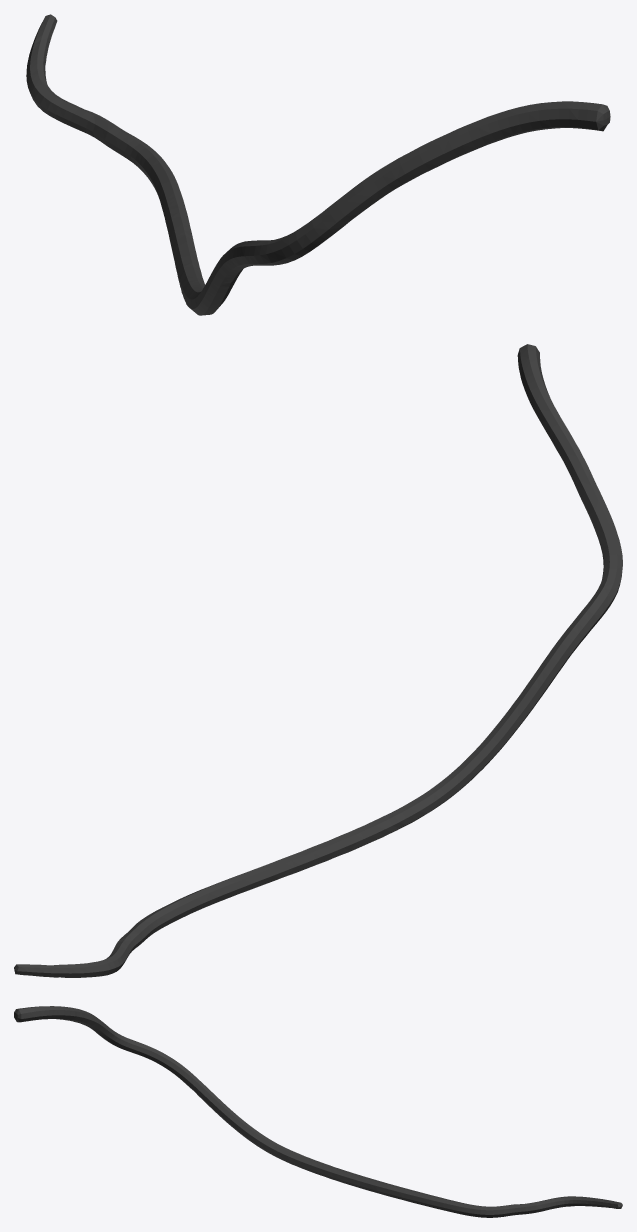
File: Inferior_alveolar_nn.glb
The picture shows the model from 3 angles, top to bottom: view 1: azimuth 30°, elevation 25°; view 2: azimuth 150°, elevation 25°; view 3: azimuth 270°, elevation 25°; orthographic projection. The views are drawn at different scales.
Visible parts, largest first — view 1: Inferior_alveolar_nn; view 2: Inferior_alveolar_nn; view 3: Inferior_alveolar_nn.
Boxes of the visible parts, x1,y1,x2,y2 form: Inferior_alveolar_nn: (26,14,610,315); Inferior_alveolar_nn: (14,344,622,977); Inferior_alveolar_nn: (14,1006,622,1217).
Bounding box in the file's own units: 0.1498 × 0.2078 × 0.5591.
1 material, 1 textured.
